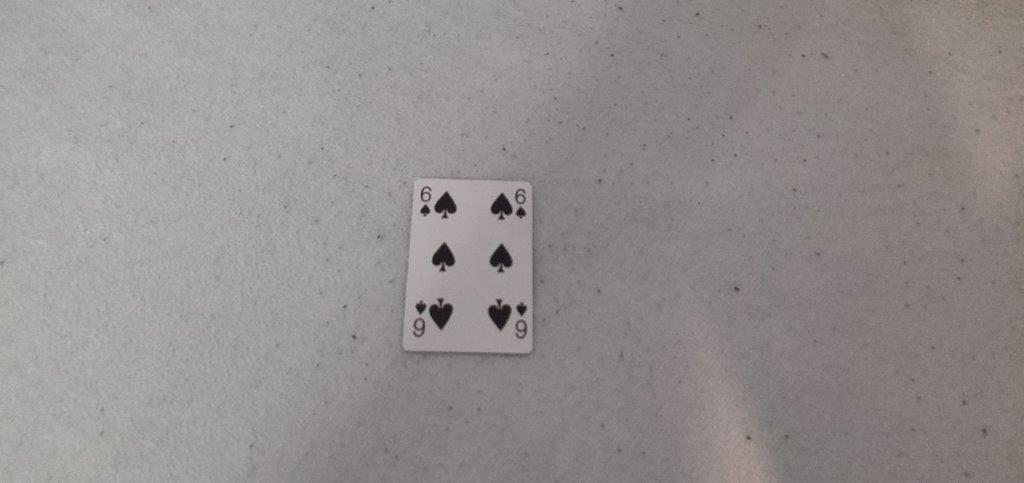6S: (512, 182, 531, 221), (416, 182, 435, 219)
